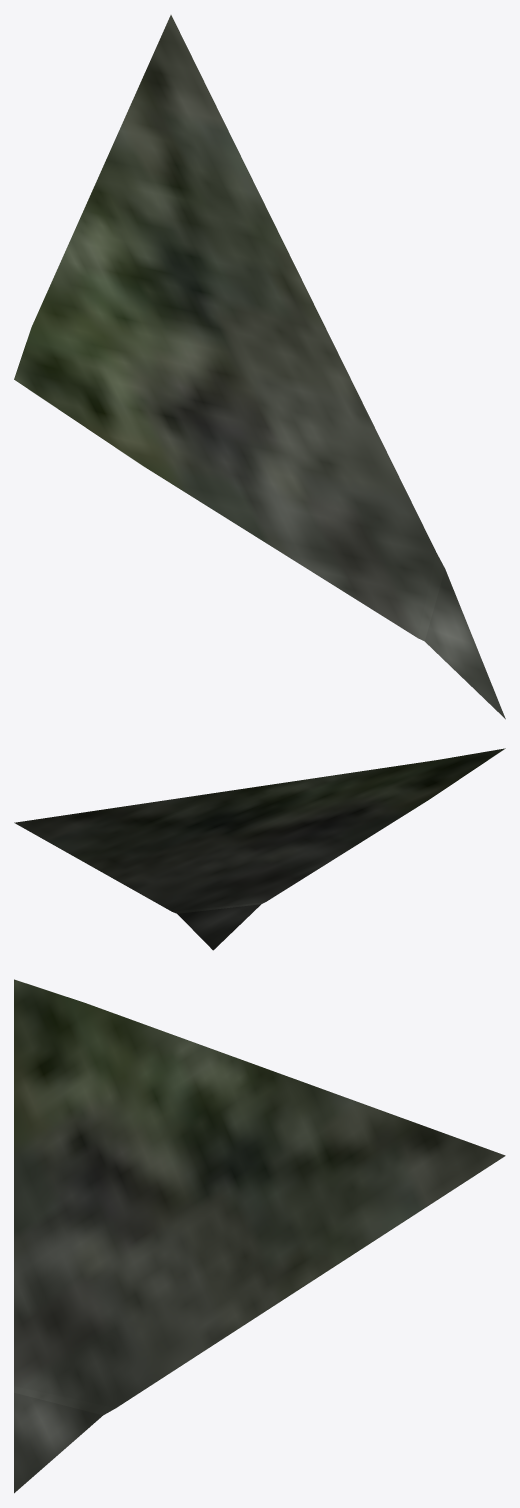
3 renders of one model, top to bottom at view 1: azimuth 30°, elevation 25°; view 2: azimuth 150°, elevation 25°; view 3: azimuth 270°, elevation 25°, orthographic. The views are drawn at different scales.
Size of the model in its own units: 1.71 by 1.53 by 2.02.
Materials: 1 (1 with a texture image).
